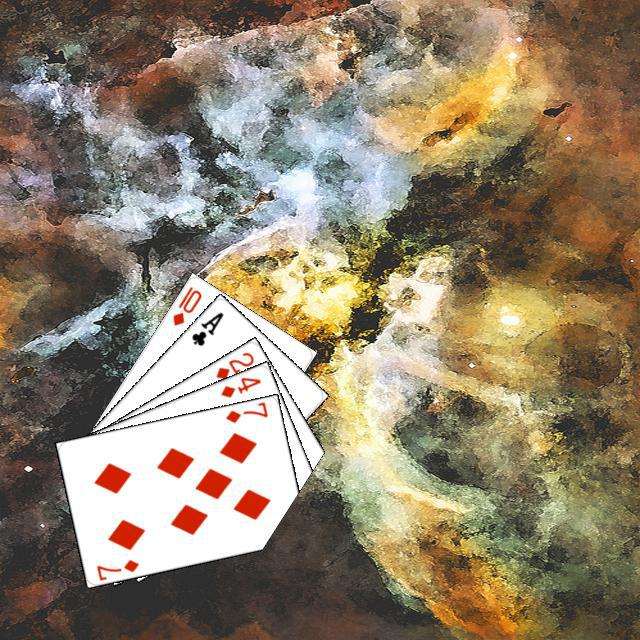10d: (168, 281, 204, 327)
2d: (211, 347, 256, 381)
4d: (216, 372, 263, 399)
7d: (221, 398, 270, 424), (92, 555, 140, 581)
Ac: (186, 307, 225, 348)
